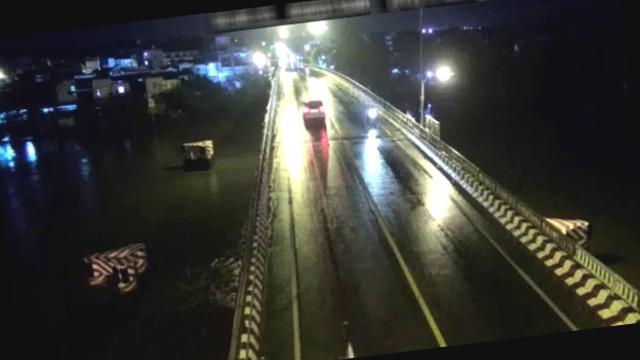Bike: (363, 103, 382, 129)
